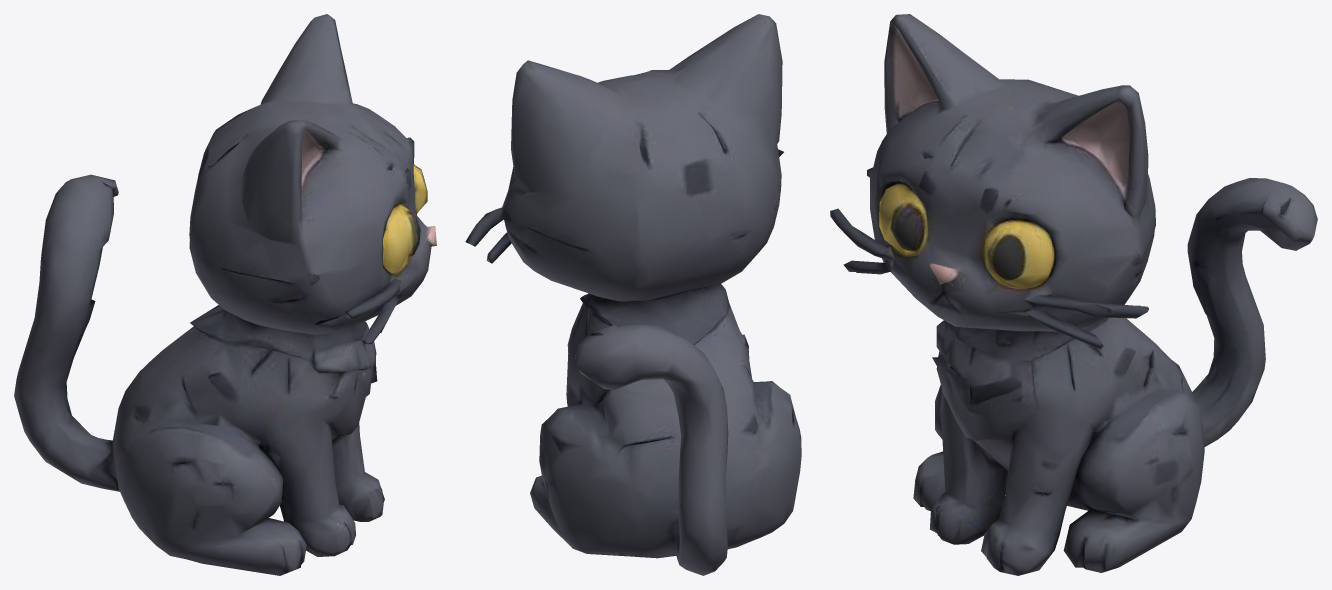
File: cat.glb
3 renders of one model, left to right at view 1: azimuth 30°, elevation 25°; view 2: azimuth 150°, elevation 25°; view 3: azimuth 270°, elevation 25°, orthographic. The views are drawn at different scales.
Parts seen in each view (by area): view 1: tripo_node_8ddcc7cb-339d-46a0-ae99-9c55cff03825; view 2: tripo_node_8ddcc7cb-339d-46a0-ae99-9c55cff03825; view 3: tripo_node_8ddcc7cb-339d-46a0-ae99-9c55cff03825.
Boxes of the visible parts, box(x1,y1,x2,y2) form: tripo_node_8ddcc7cb-339d-46a0-ae99-9c55cff03825: box(14, 14, 436, 575); tripo_node_8ddcc7cb-339d-46a0-ae99-9c55cff03825: box(465, 14, 801, 575); tripo_node_8ddcc7cb-339d-46a0-ae99-9c55cff03825: box(830, 14, 1317, 575).
Size of the model in its own units: 0.7023 by 1 by 0.9011.
Materials: 1 (1 with a texture image).
